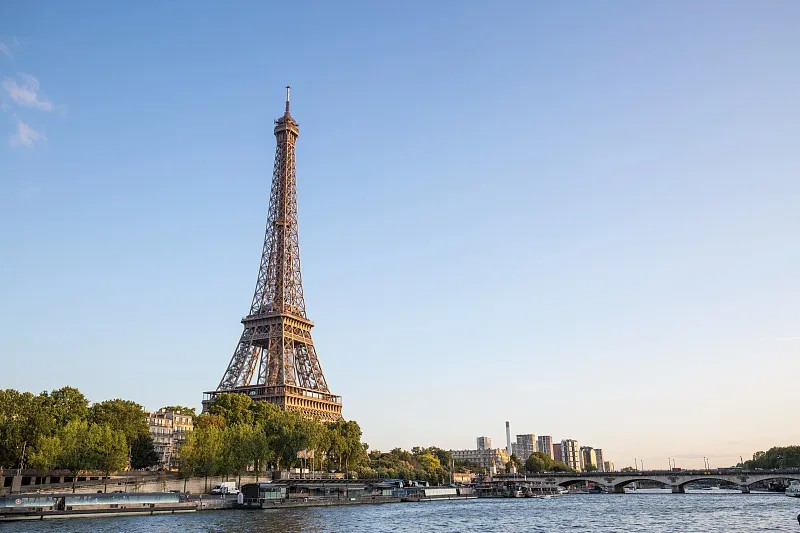Eiffel: (200, 84, 347, 434)
